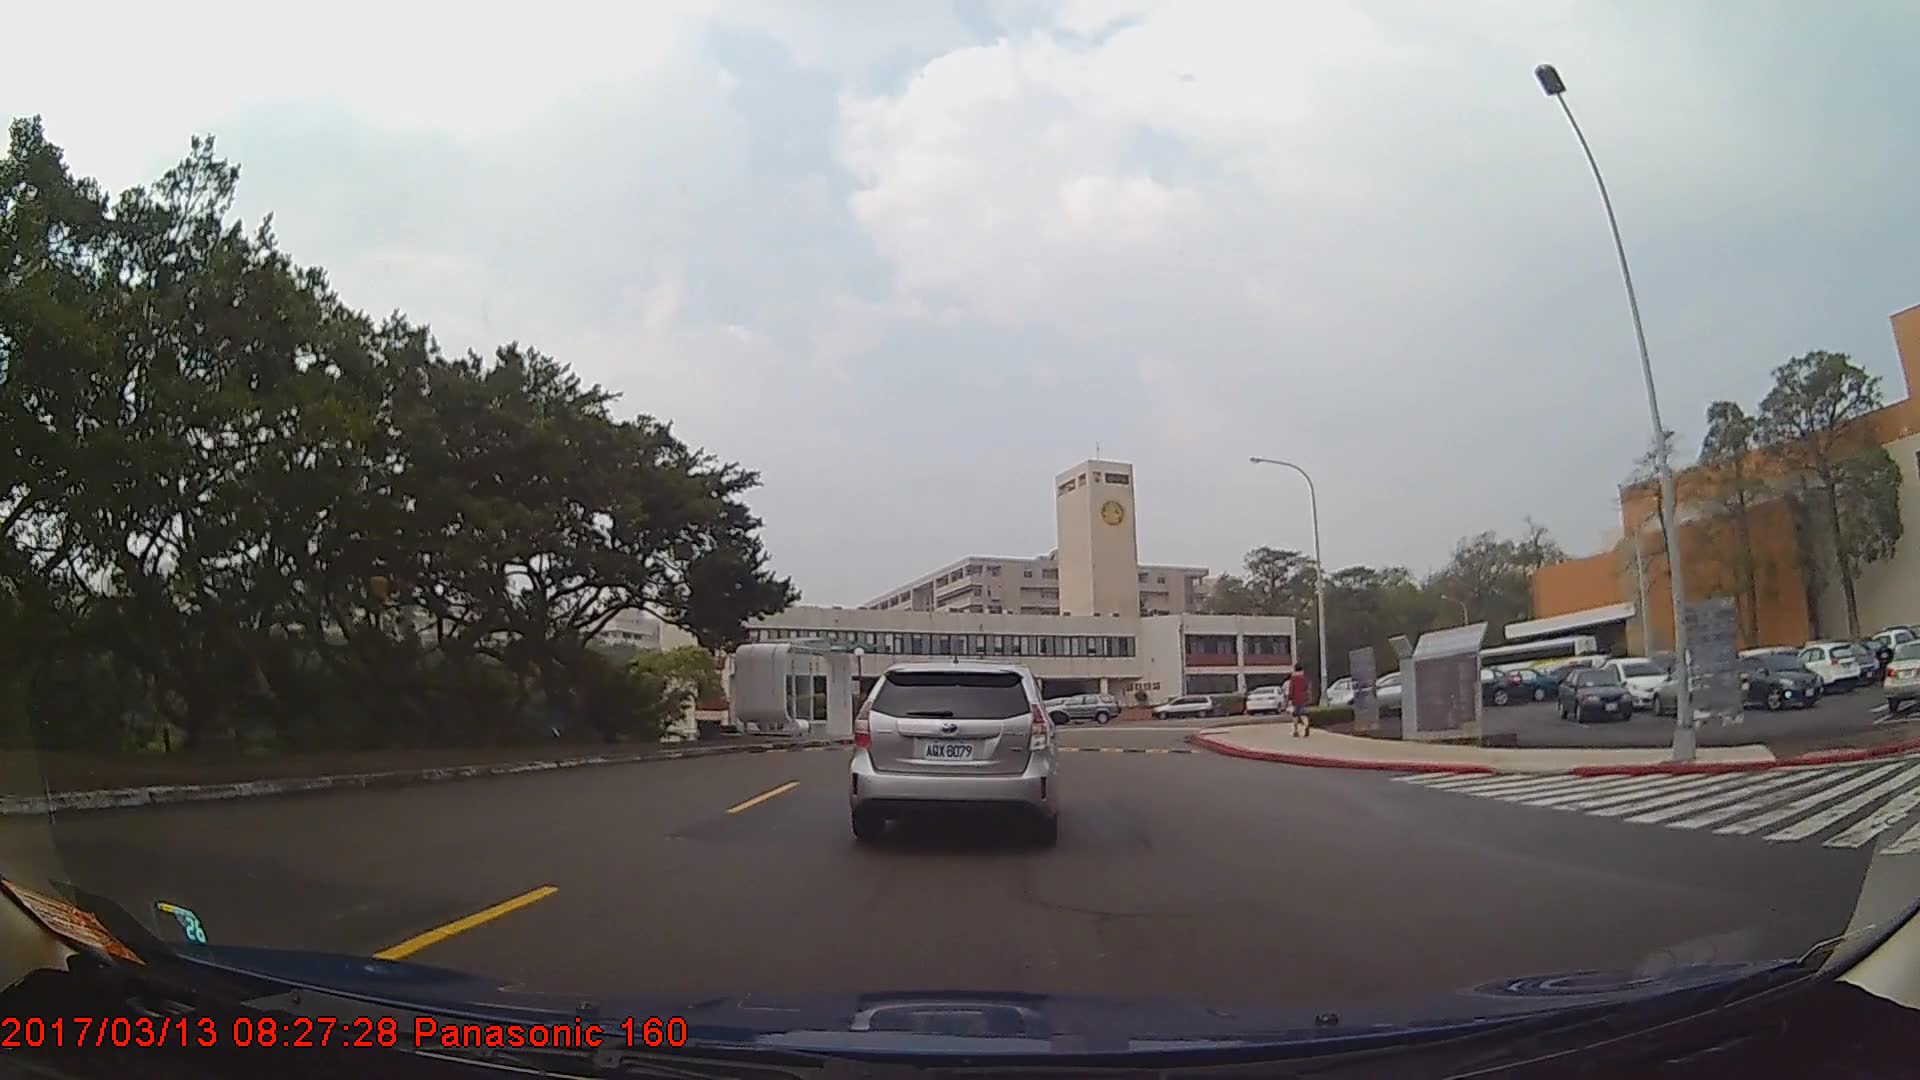pedestrian: (1287, 661, 1314, 740)
vehicle: (853, 655, 1057, 845), (1726, 649, 1822, 709), (1557, 664, 1632, 720), (1600, 654, 1672, 706), (1792, 639, 1854, 689), (1883, 636, 1920, 715), (1042, 688, 1122, 722), (1451, 665, 1520, 703), (1494, 666, 1561, 704), (1152, 691, 1216, 719), (1241, 682, 1287, 716)
